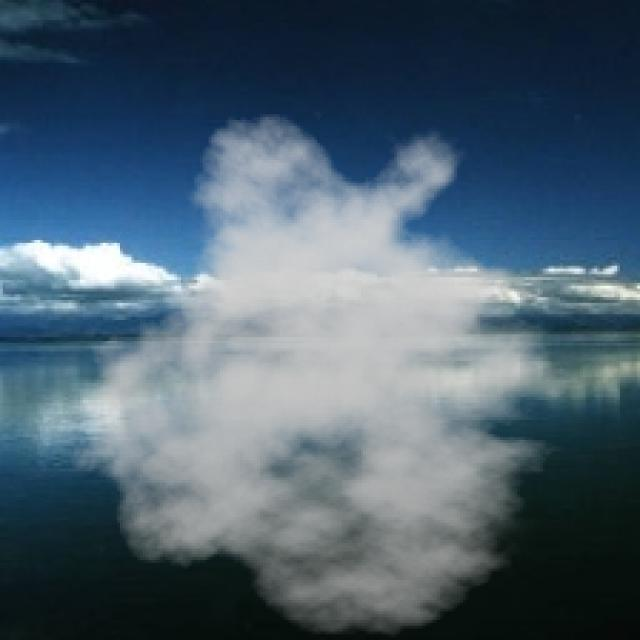smoke: (57, 112, 606, 637)
